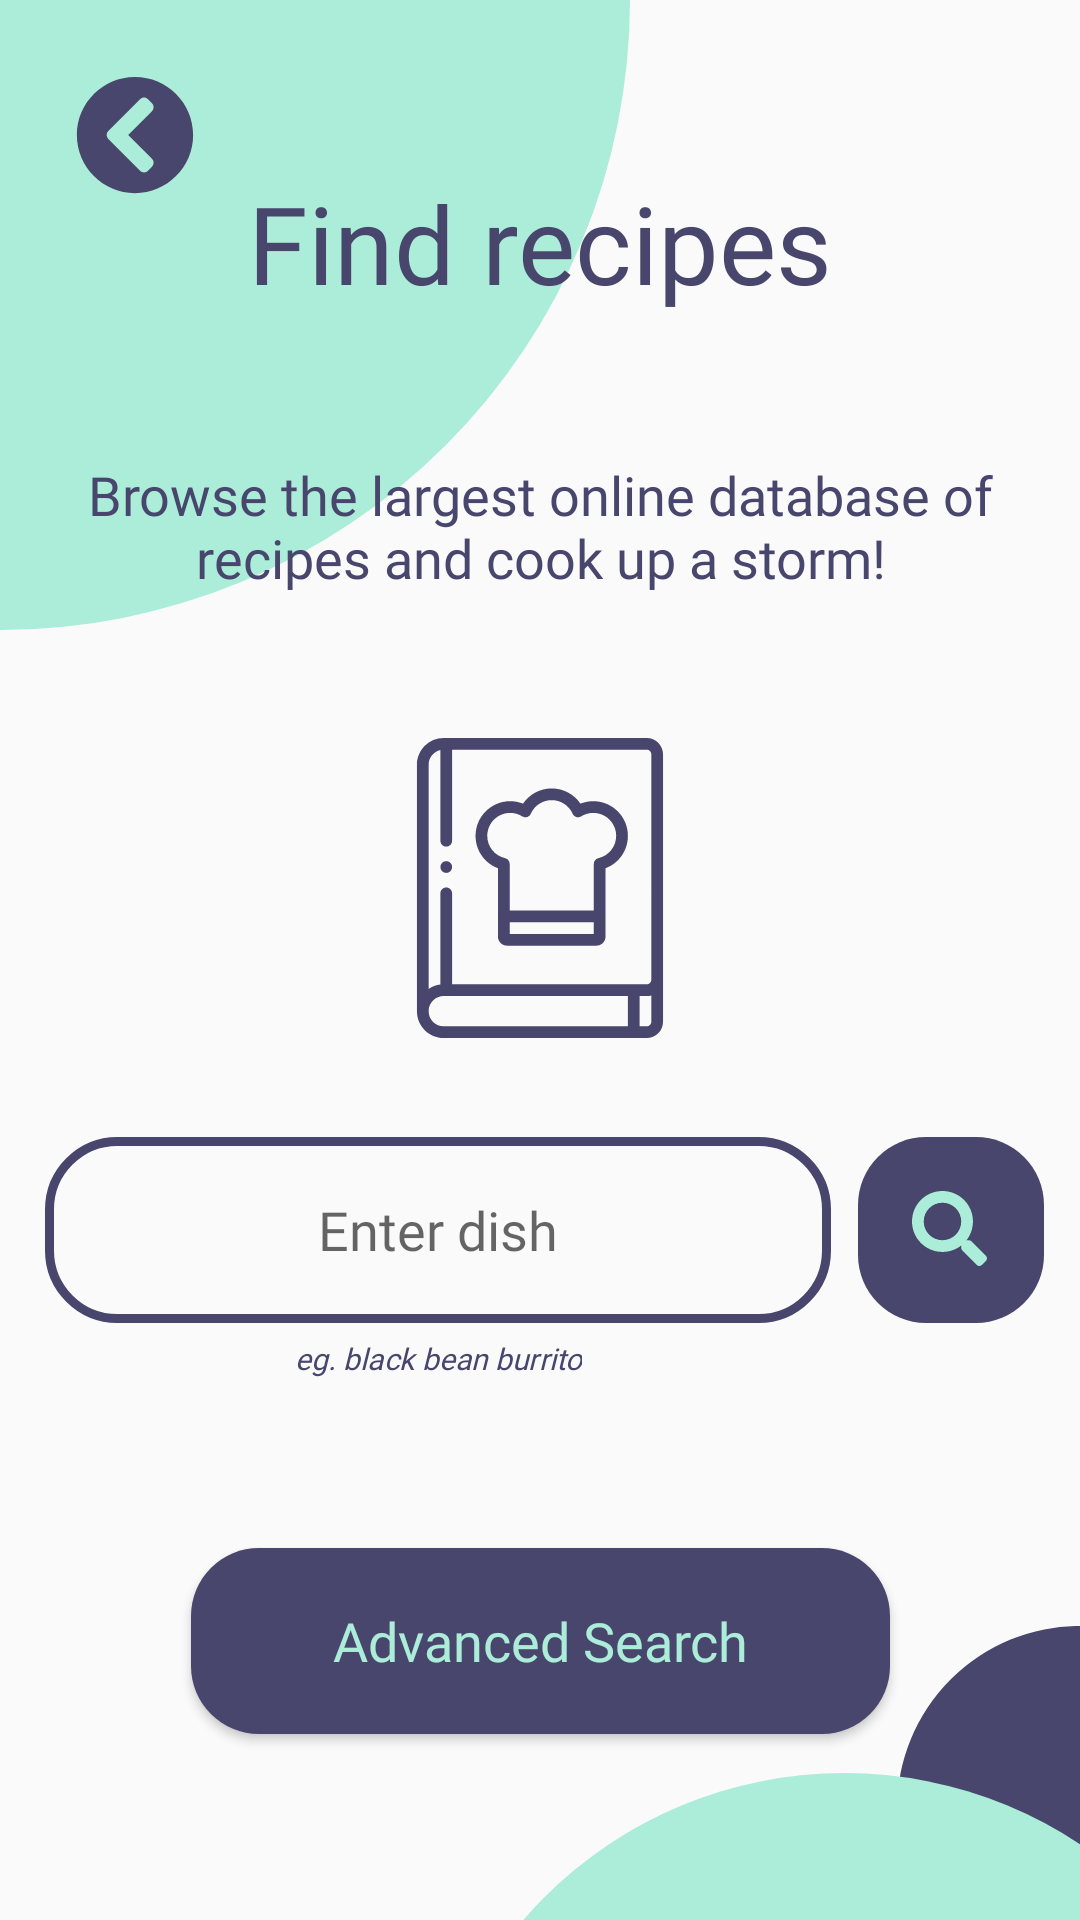

Where to tap for icons on this 1080*1920 app screen, as point (x, y):
back arrow: point (135, 135)
recipe book: point (540, 888)
search: point (949, 1228)
